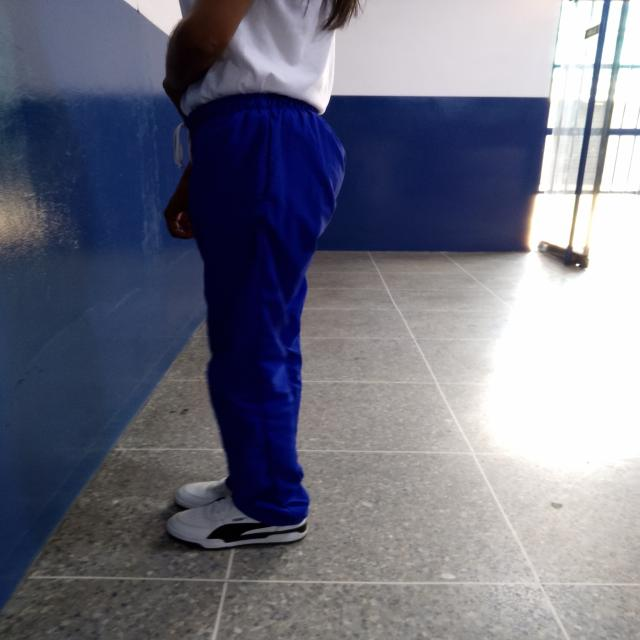uniforme_superior: (188, 91, 347, 528)
